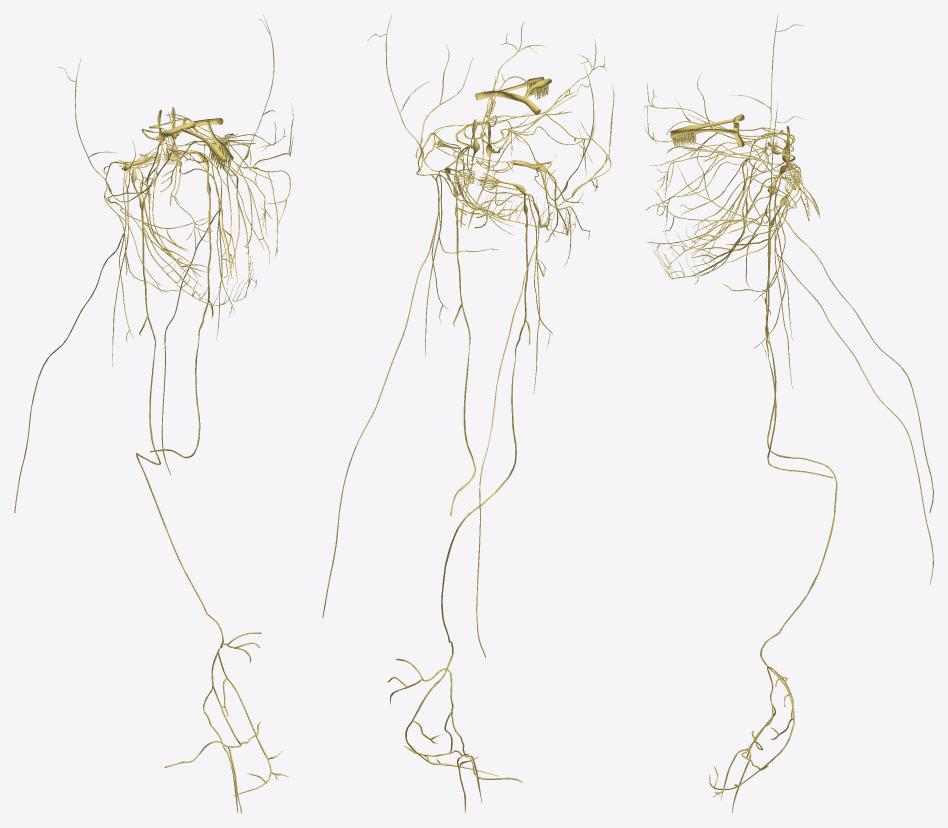
The model's file is cranial-nerves.glb.
The picture shows the model from 3 angles, left to right: view 1: azimuth 30°, elevation 25°; view 2: azimuth 150°, elevation 25°; view 3: azimuth 270°, elevation 25°; orthographic projection. The views are drawn at different scales.
Parts seen in each view (by area): view 1: ZA_vagus_nerve_x_r, ZA_facial_nerve_vii_r, ZA_vagus_nerve_x_l, ZA_accessory_nerve_xi_r, ZA_facial_nerve_vii_l, ZA_accessory_nerve_xi_l, ZA_olfactory_nerve_i_r; view 2: ZA_vagus_nerve_x_r, ZA_accessory_nerve_xi_r, ZA_accessory_nerve_xi_l, ZA_vagus_nerve_x_l, ZA_facial_nerve_vii_l, ZA_facial_nerve_vii_r, ZA_olfactory_nerve_i_r; view 3: ZA_vagus_nerve_x_r, ZA_facial_nerve_vii_l, ZA_accessory_nerve_xi_l, ZA_vagus_nerve_x_l, ZA_facial_nerve_vii_r, ZA_accessory_nerve_xi_r, ZA_olfactory_nerve_i_l.
Part boxes in pixels (<box>): ZA_vagus_nerve_x_r: <box>131,153,288,813</box>; ZA_facial_nerve_vii_r: <box>103,140,214,294</box>; ZA_vagus_nerve_x_l: <box>150,149,213,458</box>; ZA_accessory_nerve_xi_r: <box>14,162,157,512</box>; ZA_facial_nerve_vii_l: <box>164,103,293,267</box>; ZA_accessory_nerve_xi_l: <box>160,152,234,474</box>; ZA_olfactory_nerve_i_r: <box>160,121,226,169</box>; ZA_vagus_nerve_x_r: <box>387,173,530,813</box>; ZA_accessory_nerve_xi_r: <box>474,182,552,657</box>; ZA_accessory_nerve_xi_l: <box>322,175,473,617</box>; ZA_vagus_nerve_x_l: <box>444,167,504,515</box>; ZA_facial_nerve_vii_l: <box>415,44,532,236</box>; ZA_facial_nerve_vii_r: <box>478,85,614,267</box>; ZA_olfactory_nerve_i_r: <box>508,78,551,114</box>; ZA_vagus_nerve_x_r: <box>709,164,837,813</box>; ZA_facial_nerve_vii_l: <box>645,146,795,288</box>; ZA_accessory_nerve_xi_l: <box>753,183,933,584</box>; ZA_vagus_nerve_x_l: <box>726,176,832,478</box>; ZA_facial_nerve_vii_r: <box>645,74,795,235</box>; ZA_accessory_nerve_xi_r: <box>755,167,933,512</box>; ZA_olfactory_nerve_i_l: <box>670,122,744,147</box>.
Bounding box in the file's own units: 0.1476 × 0.5419 × 0.194.
